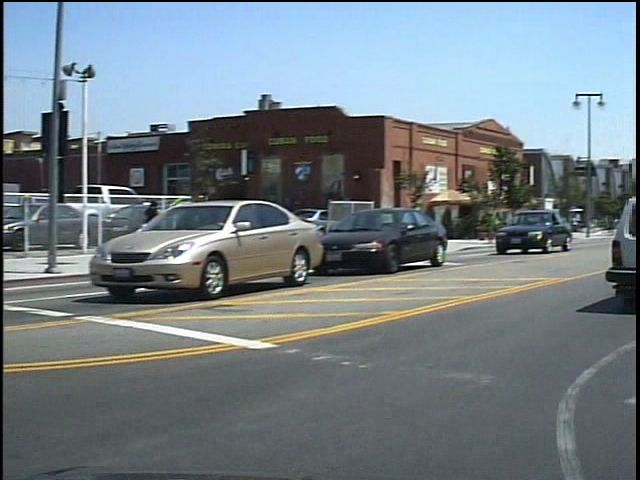car: (90, 192, 322, 299), (325, 202, 449, 273), (496, 202, 570, 253)
